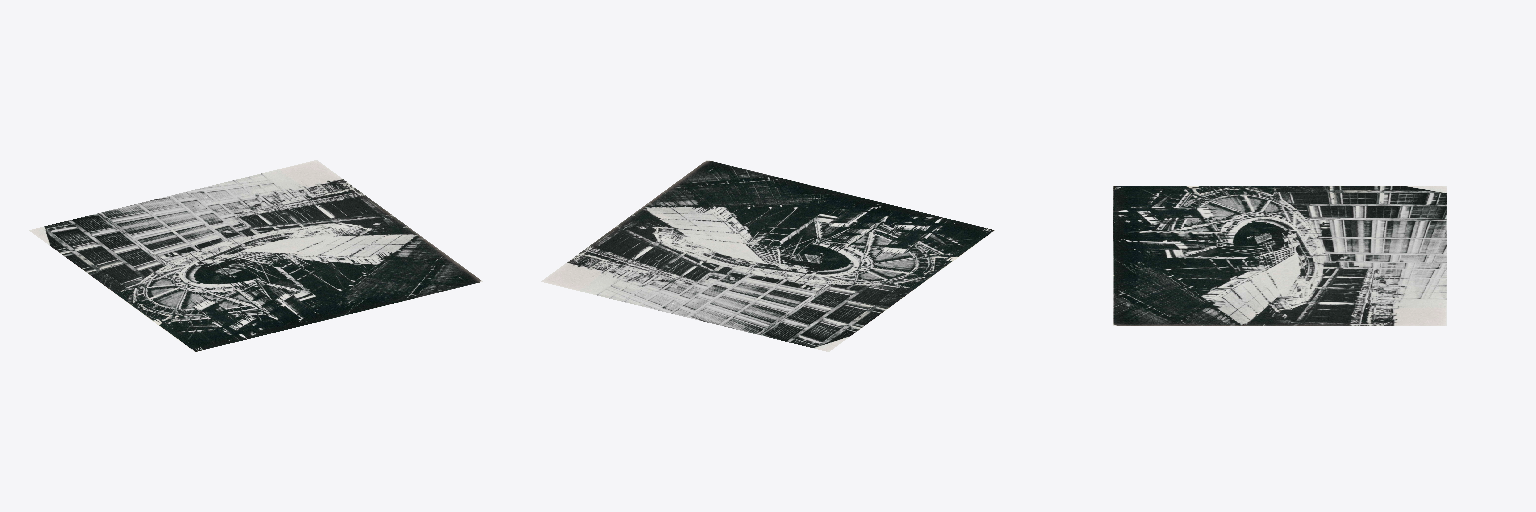
3 renders of one model, left to right at view 1: azimuth 30°, elevation 25°; view 2: azimuth 150°, elevation 25°; view 3: azimuth 270°, elevation 25°, orthographic.
Visible parts, largest first — view 1: Plane001; view 2: Plane001; view 3: Plane001.
Boxes of the visible parts, <box> form: Plane001: <box>29,160,482,351</box>; Plane001: <box>541,160,994,351</box>; Plane001: <box>1113,186,1446,325</box>.
Size of the model in its own units: 37.8 by 0 by 37.8.
1 materials, 1 textured.